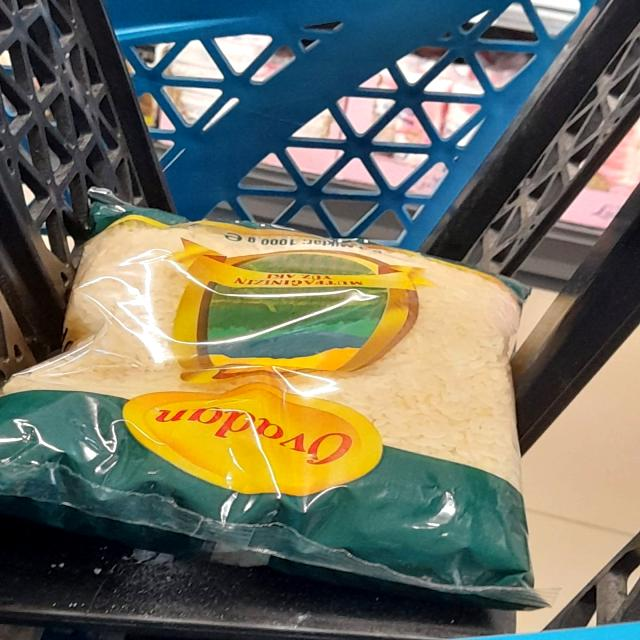rice: (54, 216, 554, 583)
